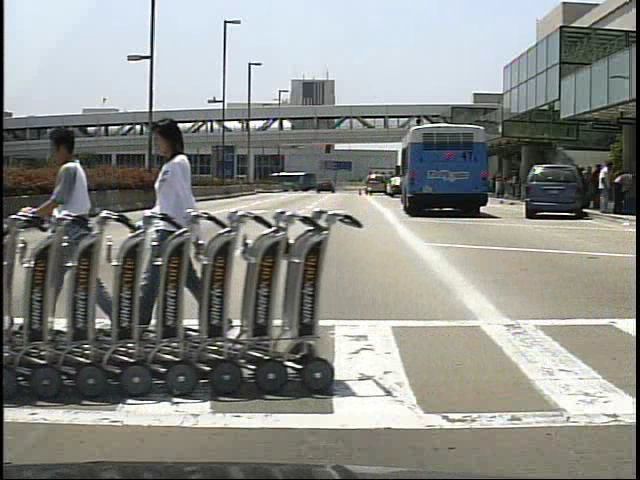person: (140, 111, 228, 351), (37, 121, 113, 340), (597, 160, 618, 216), (589, 164, 604, 214)
